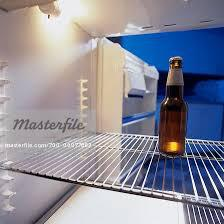beer: (157, 54, 189, 157)
